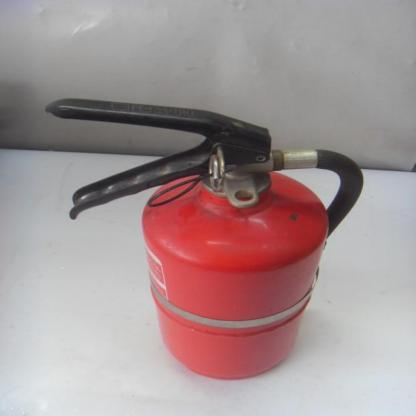Fire Extinguisher: (37, 71, 377, 388)
